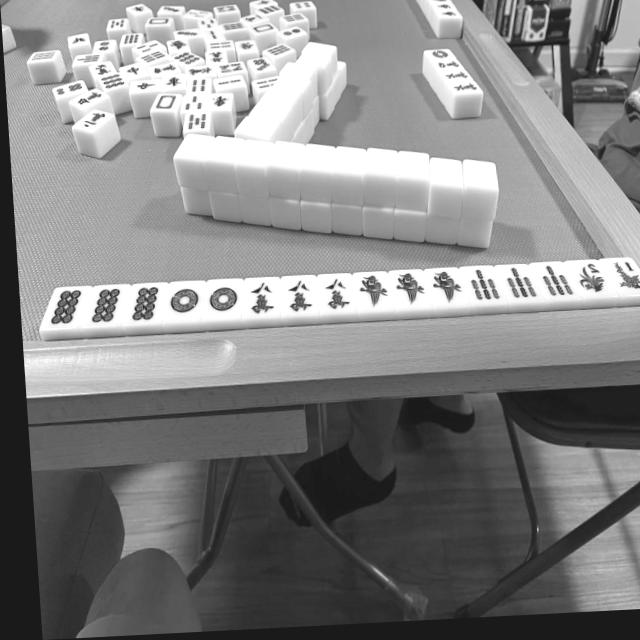f1: (611, 256, 640, 298)
f2: (575, 258, 608, 302)
m8: (246, 278, 280, 322), (286, 275, 316, 318), (321, 276, 353, 316)
s1: (356, 271, 390, 317), (393, 269, 427, 312), (430, 268, 463, 309)
s7: (503, 263, 538, 304), (467, 266, 502, 307), (540, 261, 574, 301)
t1: (206, 278, 243, 323), (166, 281, 204, 324)
t8: (88, 284, 126, 328), (128, 283, 165, 326), (48, 287, 84, 328)
